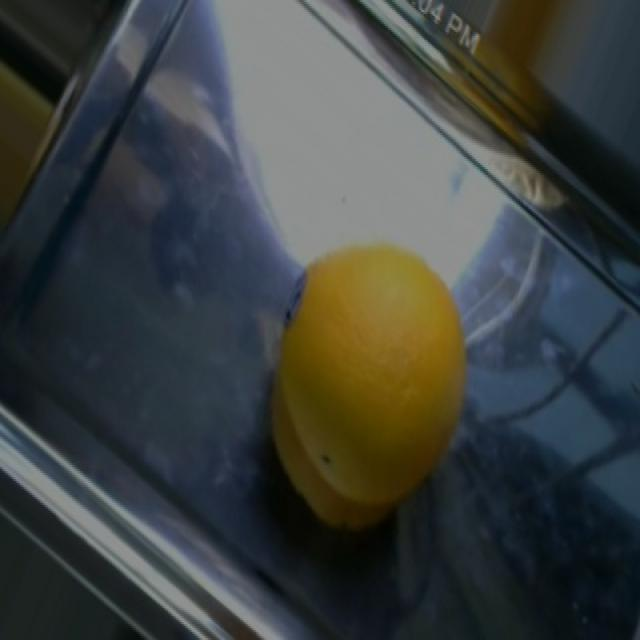Fruit: (249, 220, 492, 554)
